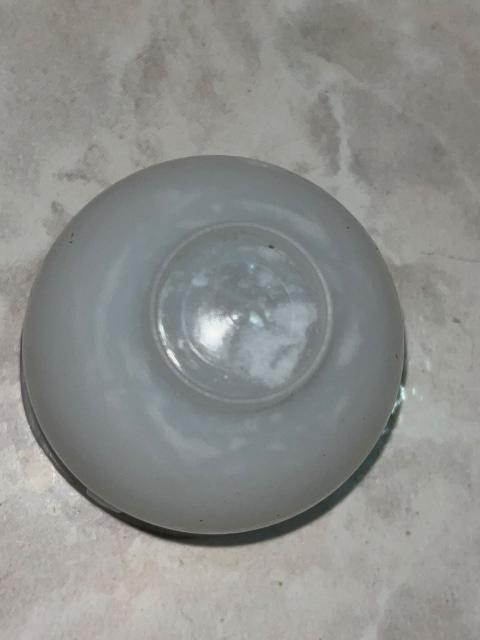HDPE: (30, 138, 413, 567)
